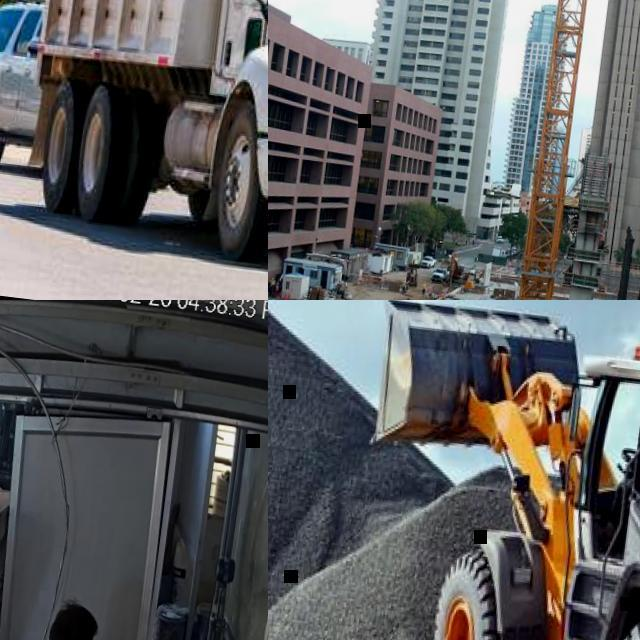vest: (422, 284, 426, 289)
